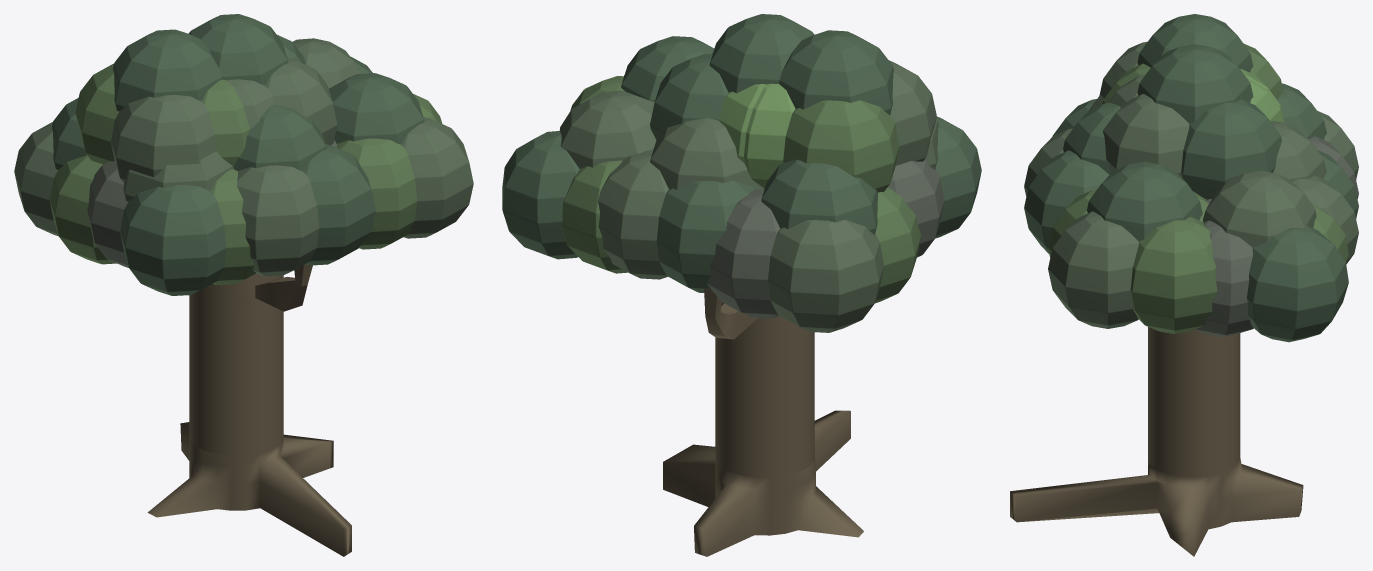
File: arbol_normal.fbx
3 views of the same model, side by side, from view 1: azimuth 30°, elevation 25°; view 2: azimuth 150°, elevation 25°; view 3: azimuth 270°, elevation 25° (orthographic). The views are drawn at different scales.
Parts seen in each view (by area): view 1: polySurface10; view 2: polySurface10; view 3: polySurface10.
Boxes of the visible parts, bbox=[...] form: polySurface10: bbox=[14, 14, 473, 556]; polySurface10: bbox=[502, 14, 981, 556]; polySurface10: bbox=[1010, 14, 1358, 556].
Bounding box in the file's own units: 27.07 × 33.97 × 23.37.
